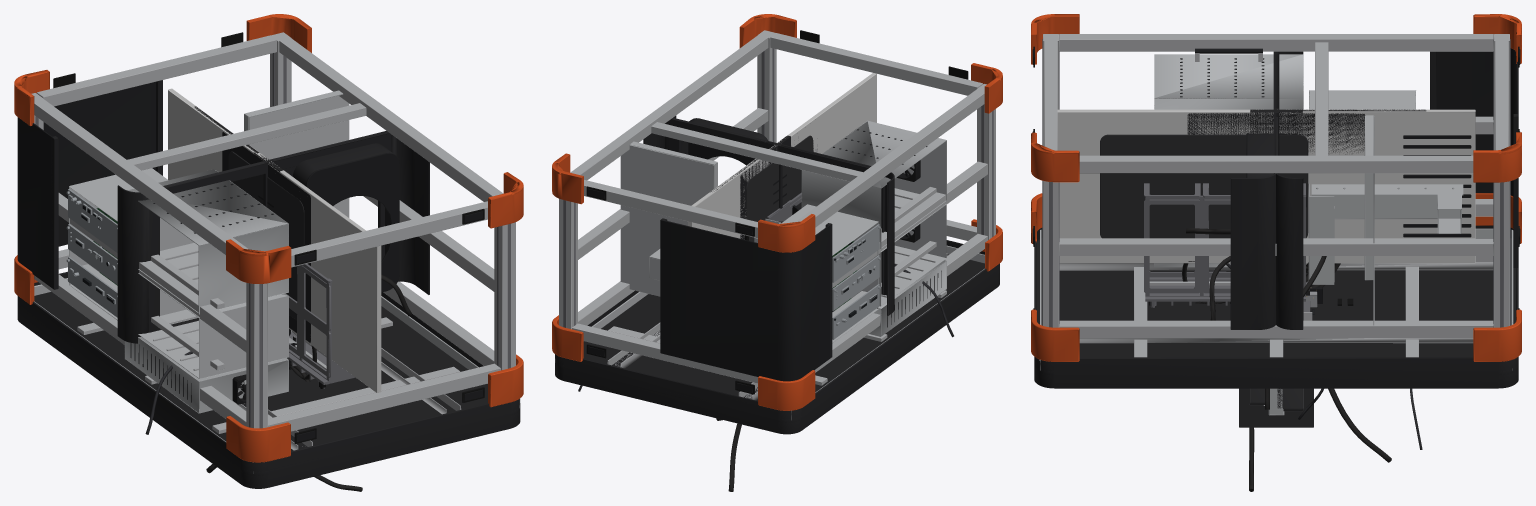
File: projector-materials-draco.glb
3 views of the same model, side by side, from view 1: azimuth 30°, elevation 25°; view 2: azimuth 150°, elevation 25°; view 3: azimuth 270°, elevation 25° (orthographic). The views are drawn at different scales.
Visible parts, largest first — view 1: Projector | Source materials GPU batched; view 2: Projector | Source materials GPU batched; view 3: Projector | Source materials GPU batched.
Part boxes in pixels (box(x1,y1,x2,y2)): Projector | Source materials GPU batched: box(14, 14, 523, 491); Projector | Source materials GPU batched: box(552, 14, 1002, 491); Projector | Source materials GPU batched: box(1031, 14, 1521, 491).
Bounding box in the file's own units: 0.8064 × 0.9276 × 1.08.
